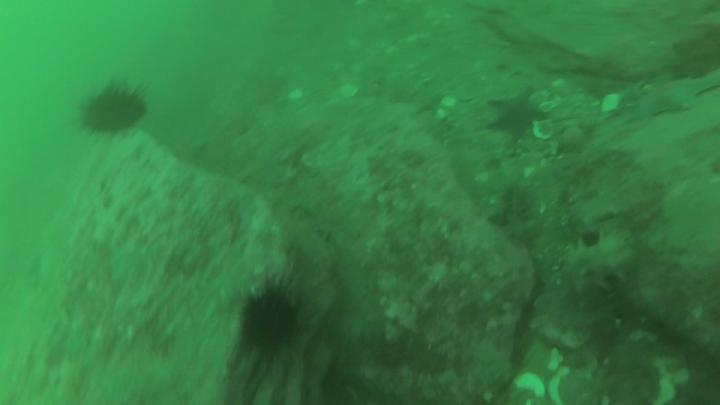echinus: (240, 293, 297, 354), (84, 91, 146, 131)
holothurian: (570, 231, 638, 290)
starfish: (624, 72, 720, 118), (489, 87, 542, 137)
